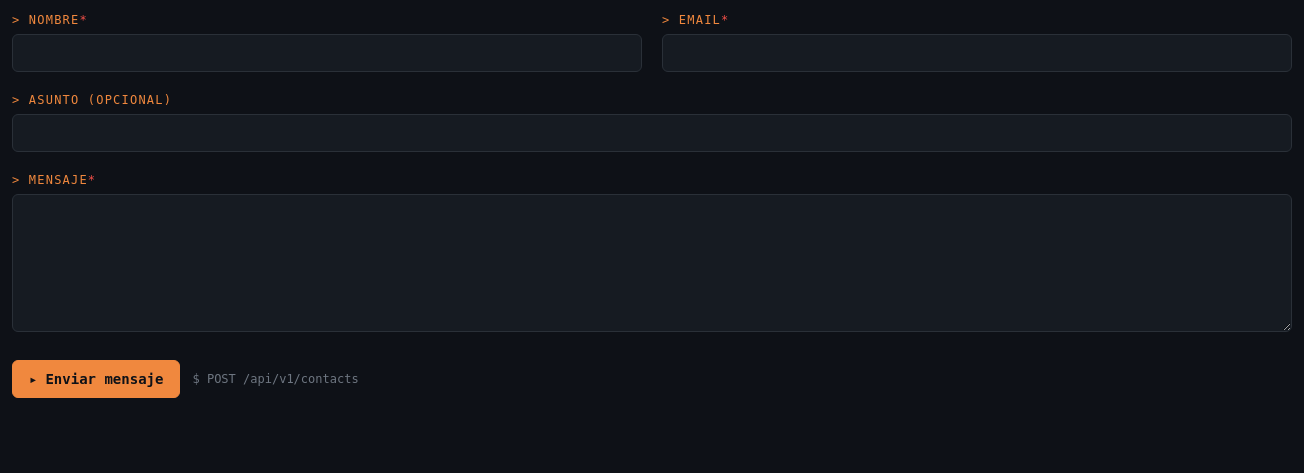
Test: ContactForm submit catch branches › sets the network-error banner for ApiError('network_error', 0)
The image size is (1304, 473).
Type "Alice" into the field labelled "> Nombre*" at (327, 53), box left=12, top=34, right=642, bottom=72
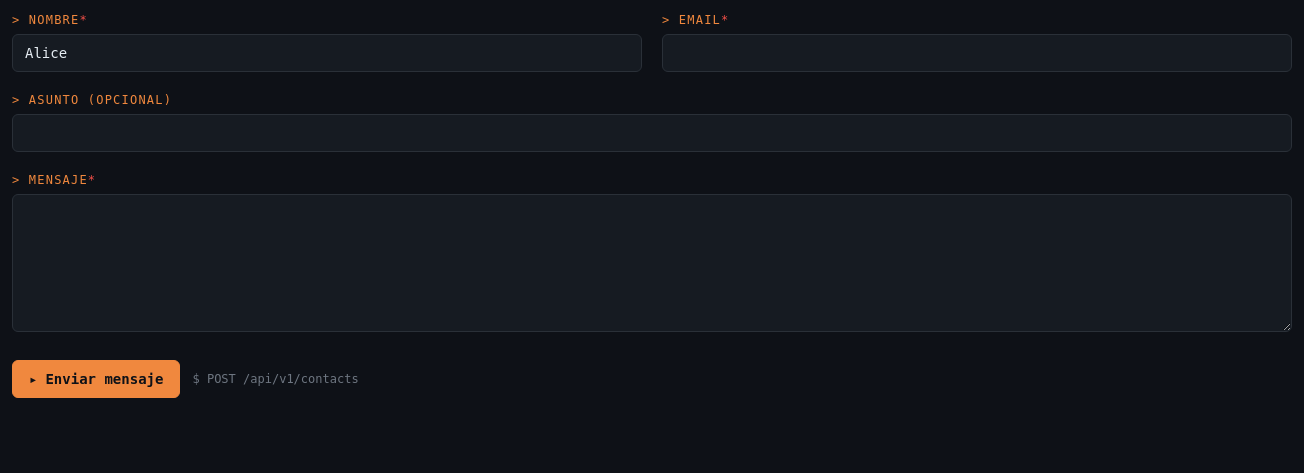
Type "alice@example.com" into the field labelled "> Email*" at (977, 53), box left=662, top=34, right=1292, bottom=72
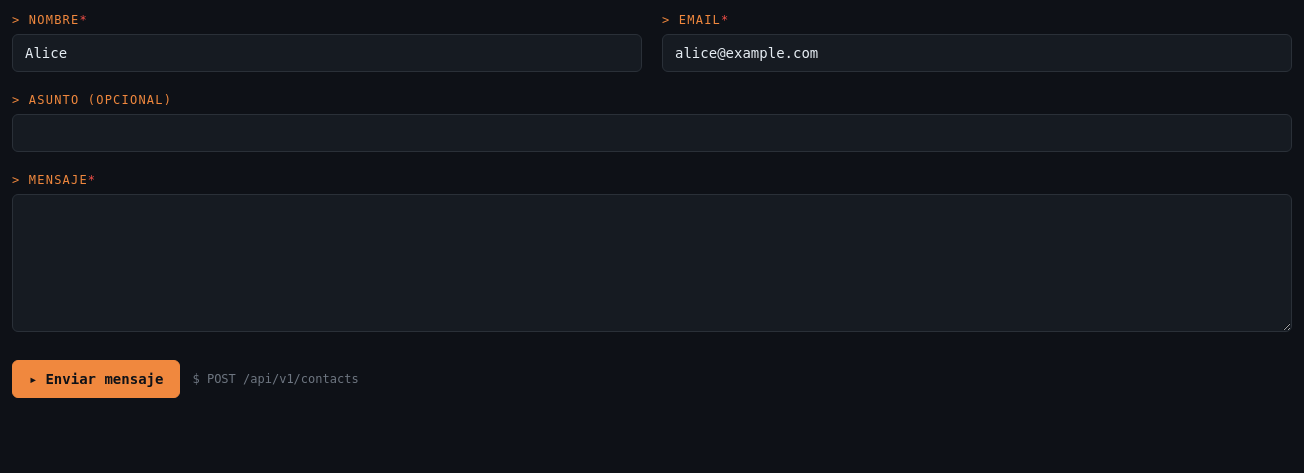
Type "Hello" into the field labelled "> Asunto (opcional)" at (652, 133), box left=12, top=114, right=1292, bottom=152
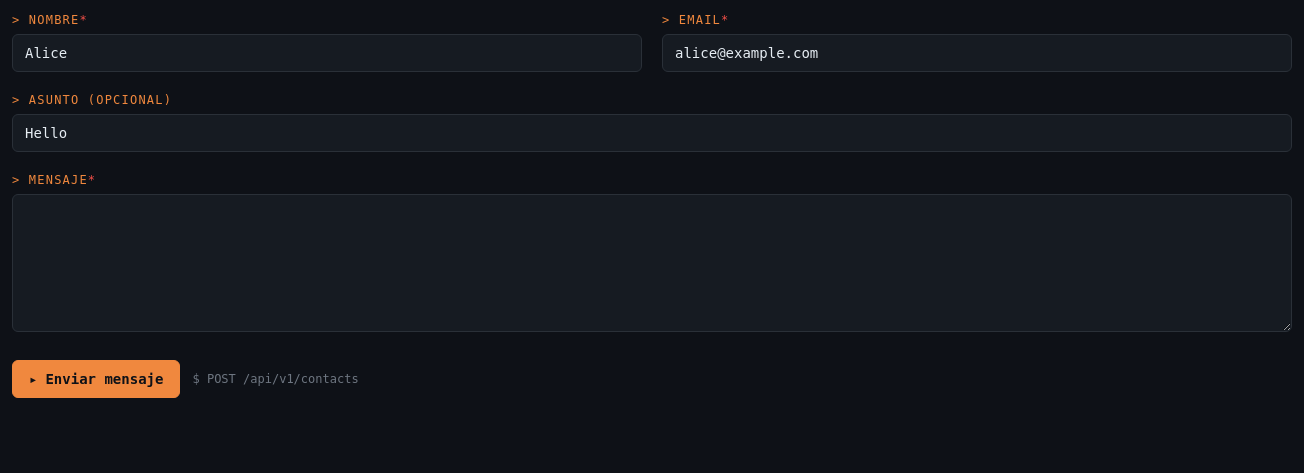
Type "This is a valid message body of sufficient length." into the text box at (652, 263), box left=12, top=194, right=1292, bottom=332
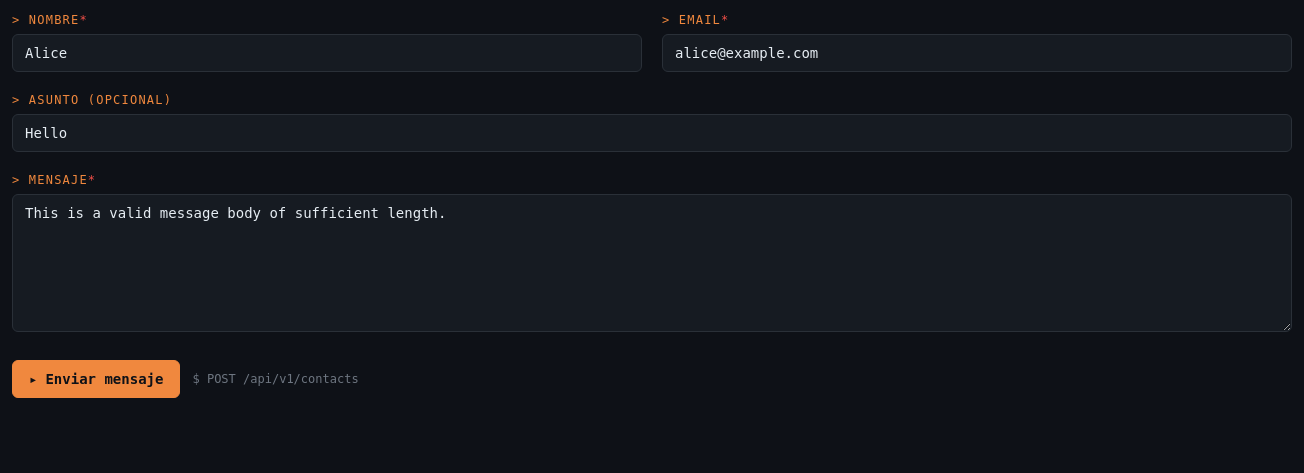
Click the button "▸ Enviar mensaje" at (96, 379), box left=12, top=360, right=180, bottom=398
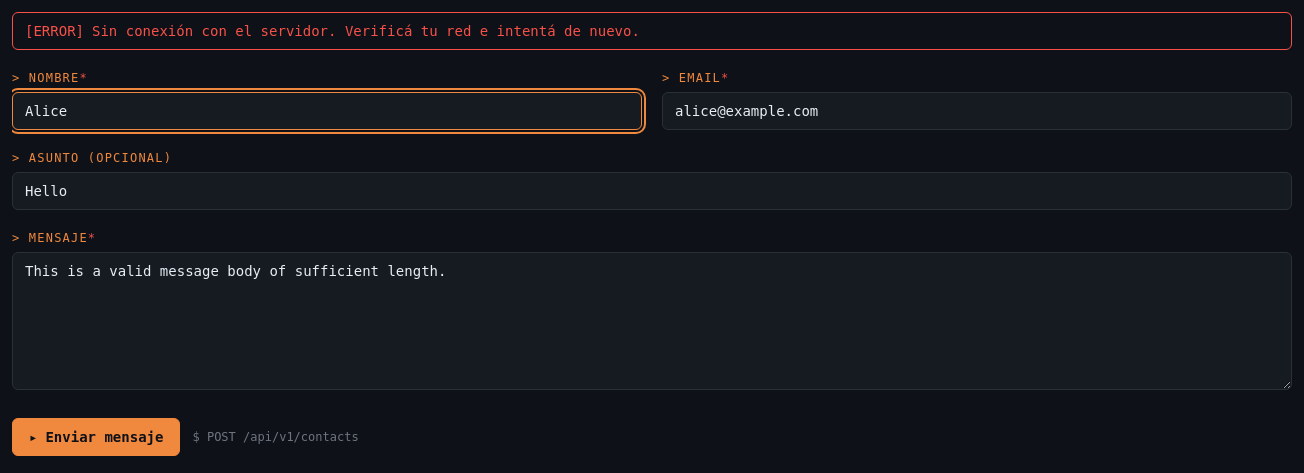
Expected: the message "[ERROR] Sin conexión con el servidor. Verificá tu red e intentá de nuevo." is shown, left=12, top=12, right=1292, bottom=50
